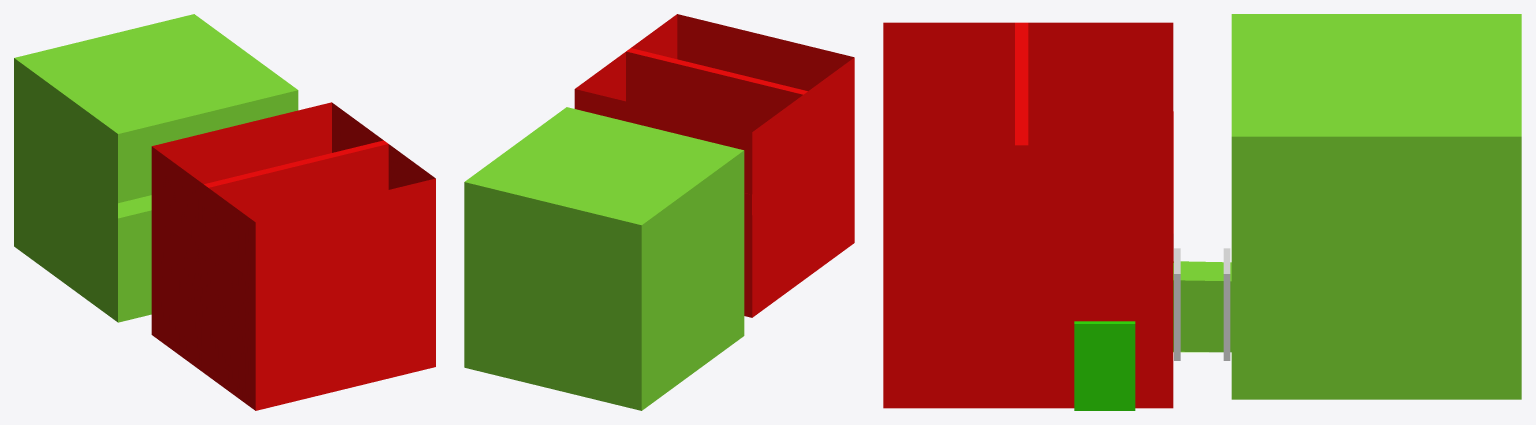
File: MapLayout.fbx
The picture shows the model from 3 angles, left to right: view 1: azimuth 30°, elevation 25°; view 2: azimuth 150°, elevation 25°; view 3: azimuth 270°, elevation 25°; orthographic projection. The views are drawn at different scales.
Visible parts, largest first — view 1: Cube.002, Cube.001; view 2: Cube.001, Cube.002; view 3: Cube.001, Cube.002, Door.002, Door, Door.001.
Part boxes in pixels (box(x1,y1,x2,y2)): Cube.002: box(151, 102, 435, 410); Cube.001: box(14, 14, 298, 322); Cube.001: box(464, 107, 744, 410); Cube.002: box(574, 14, 854, 317); Cube.001: box(1173, 14, 1521, 399); Cube.002: box(883, 22, 1173, 408); Door.002: box(1074, 321, 1135, 410); Door: box(1223, 248, 1230, 360); Door.001: box(1174, 248, 1180, 360).
Bounding box in the file's own units: 2183 × 2033 × 4400.
